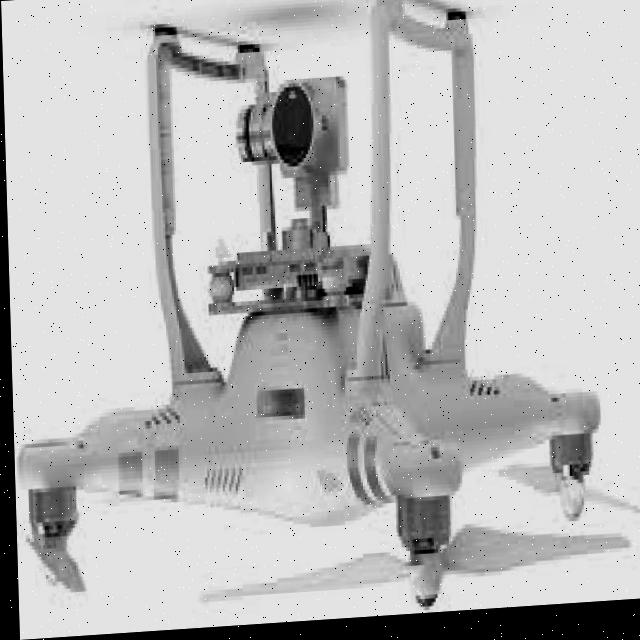drone: (1, 0, 640, 604)
